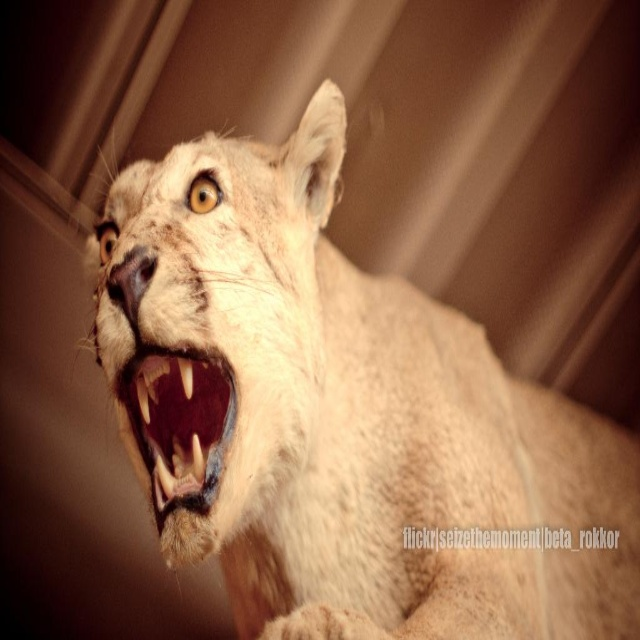Lion: (65, 78, 640, 639)
